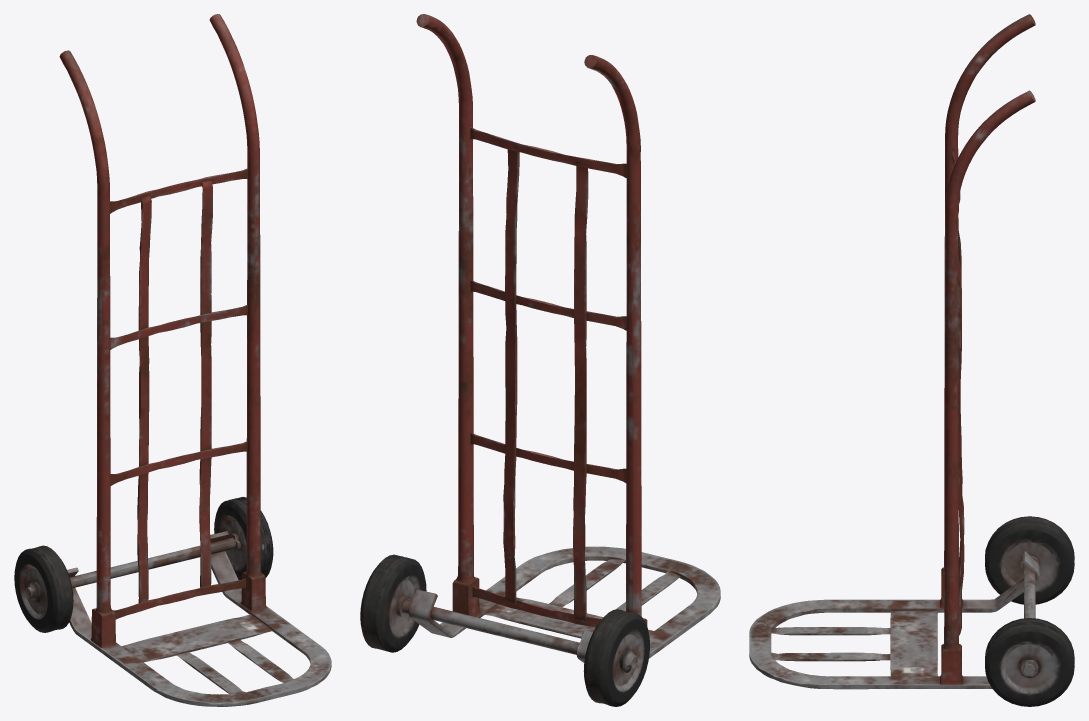
The model's file is hand_truck.glb.
3 renders of one model, left to right at view 1: azimuth 30°, elevation 25°; view 2: azimuth 150°, elevation 25°; view 3: azimuth 270°, elevation 25°, orthographic. The views are drawn at different scales.
Visible parts, largest first — view 1: mesh; view 2: mesh; view 3: mesh.
Part boxes in pixels (box(x1,y1,x2,y2)): mesh: box(14, 14, 331, 706); mesh: box(360, 14, 720, 706); mesh: box(749, 14, 1074, 706).
Bounding box in the file's own units: 0.5933 × 1.4 × 0.6921.
Materials: 1 (1 with a texture image).
